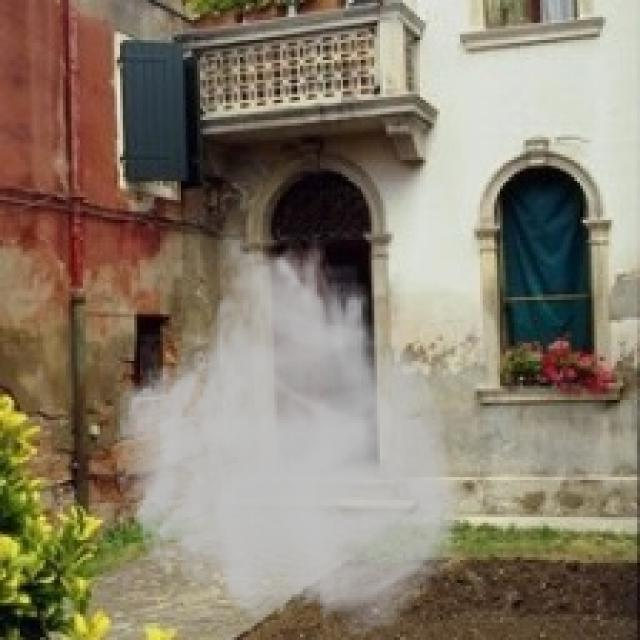smoke: (111, 226, 468, 637)
